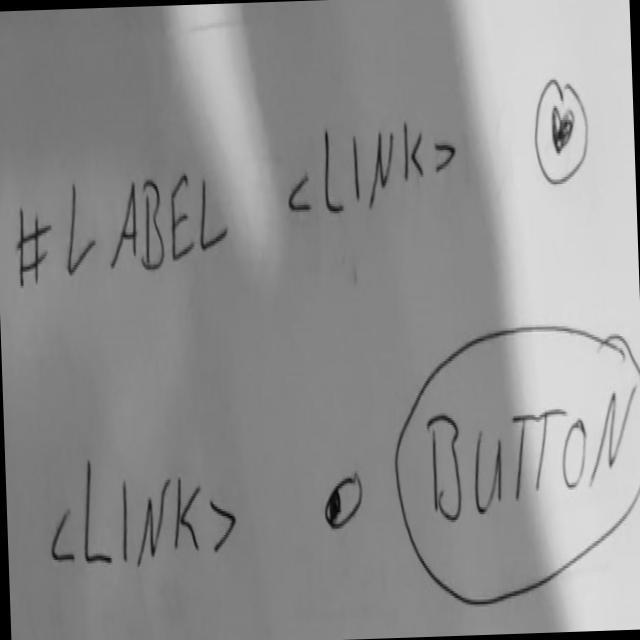button: (387, 316, 640, 614)
icon-button: (532, 75, 593, 193)
label: (10, 166, 234, 299)
link: (46, 451, 241, 579), (285, 111, 460, 224)
toggle: (321, 467, 368, 542)
